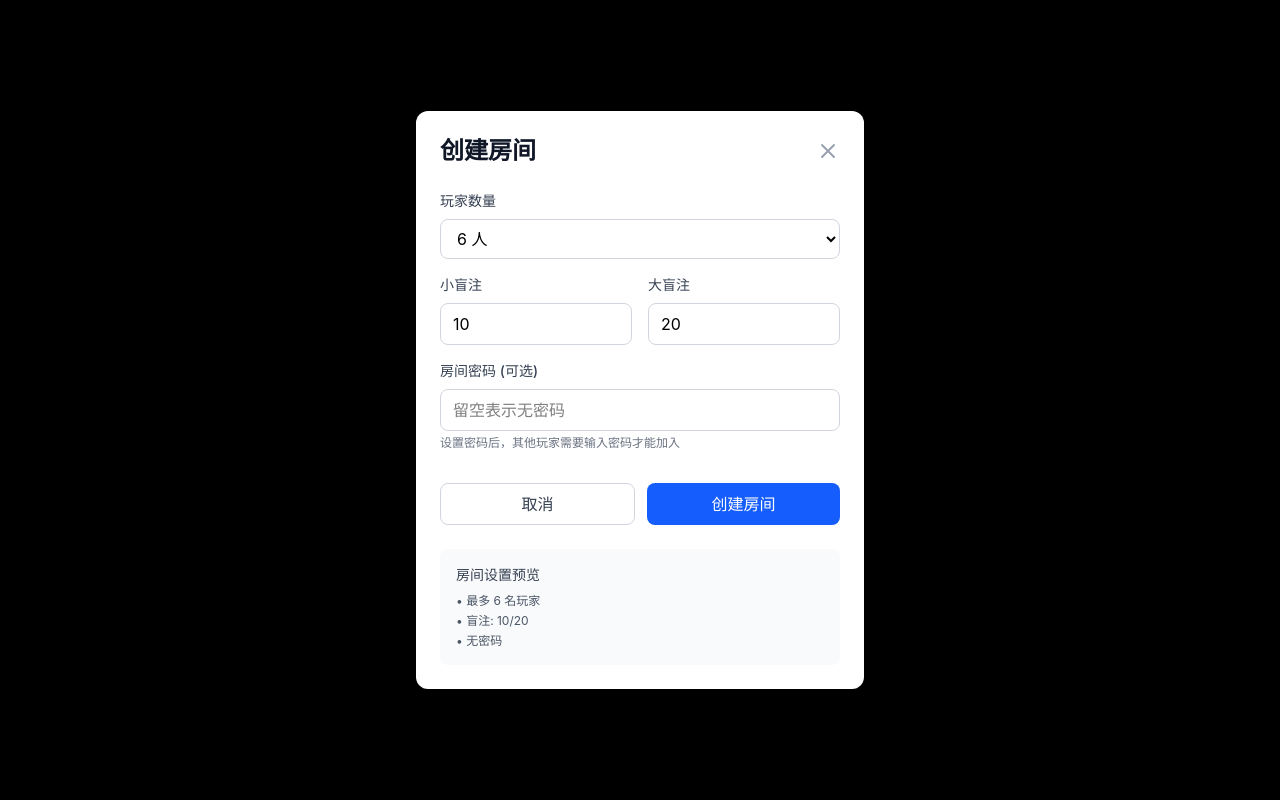
Test case: CreateRoomModal › Form Validation › should clear error messages when form is modified
# Create an error
Step 1. Replace the text in the number field below "小盲注" with "50" → (536, 324), box [440,303,632,345]
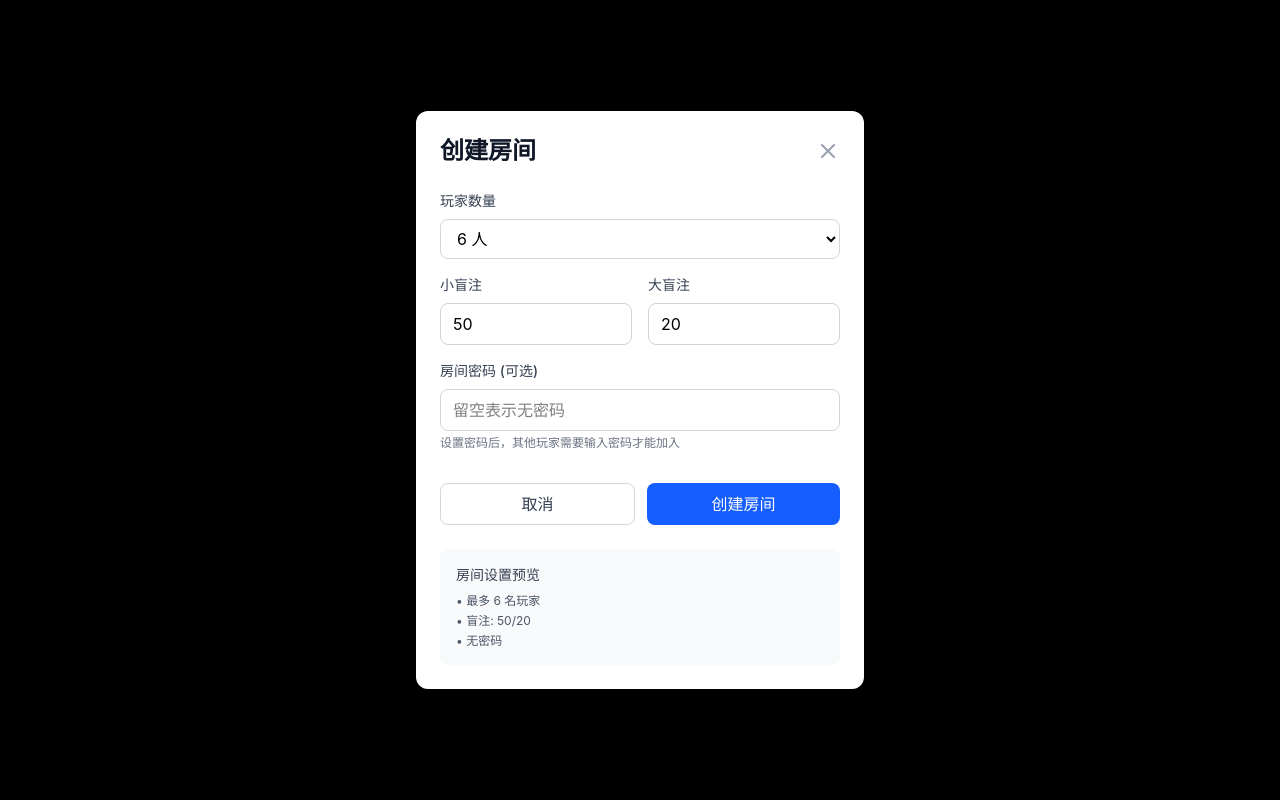
Step 2. Replace the text in the number field below "大盲注" with "25" → (744, 324), box [648,303,840,345]
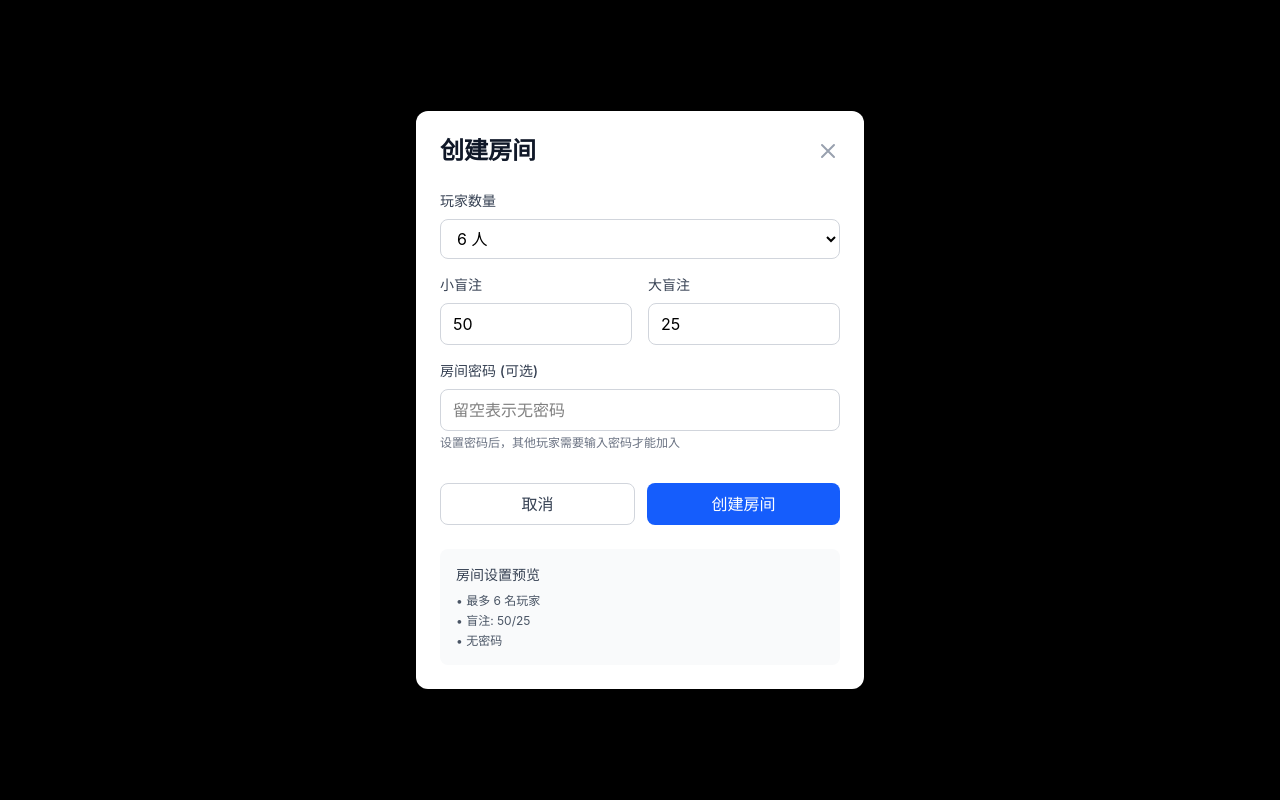
Step 3. Submit the form, box [440,191,840,525]
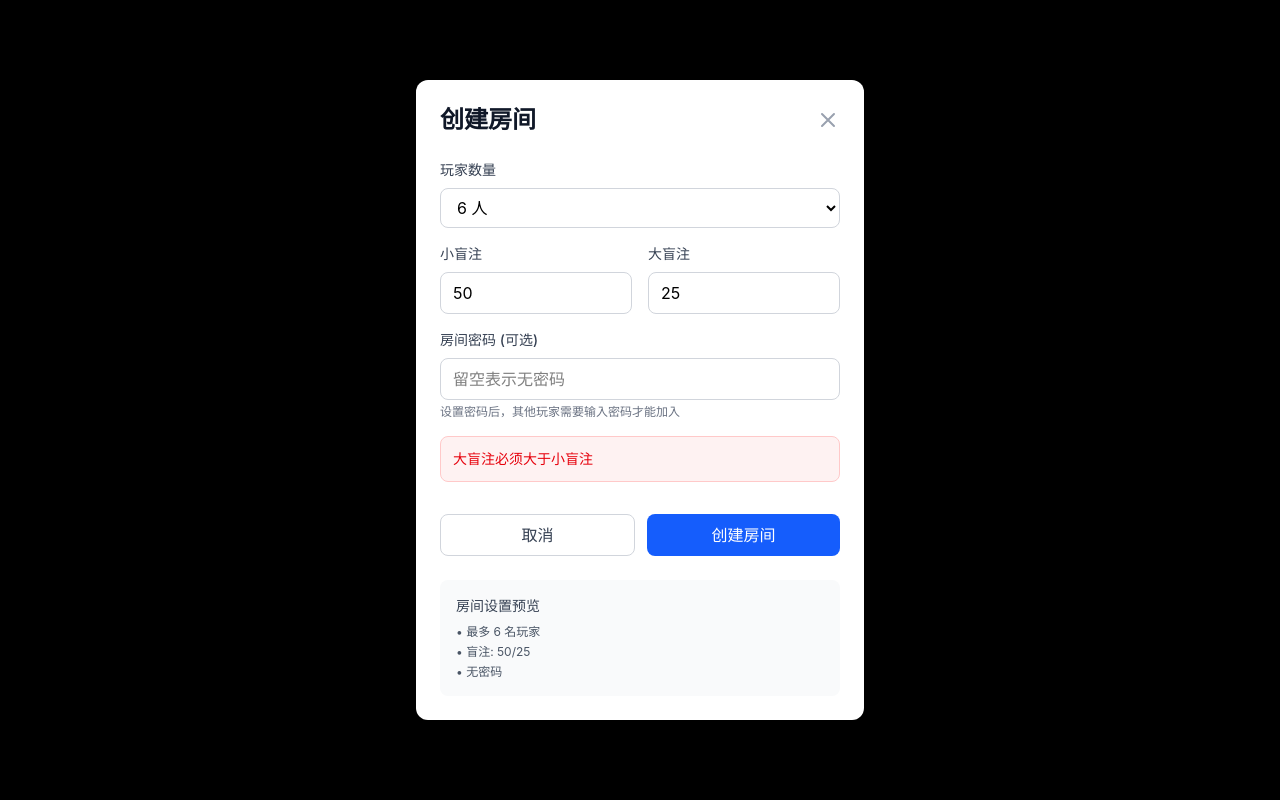
Check: the text "大盲注必须大于小盲注" is shown, box [453,450,593,467]
# Fix the error
Step 4. Replace the text in the 2nd number field with "100" → (744, 293), box [648,272,840,314]
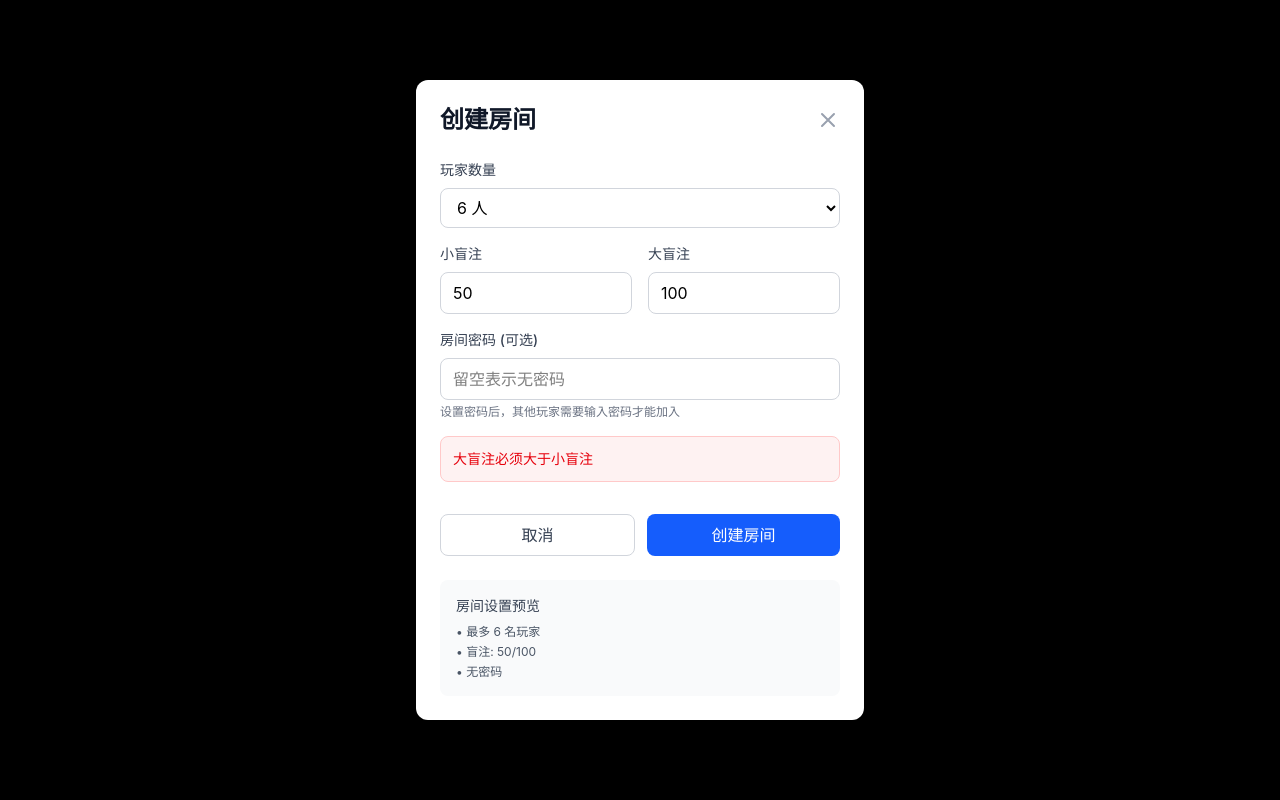
Step 5. Submit the form, box [440,160,840,556]
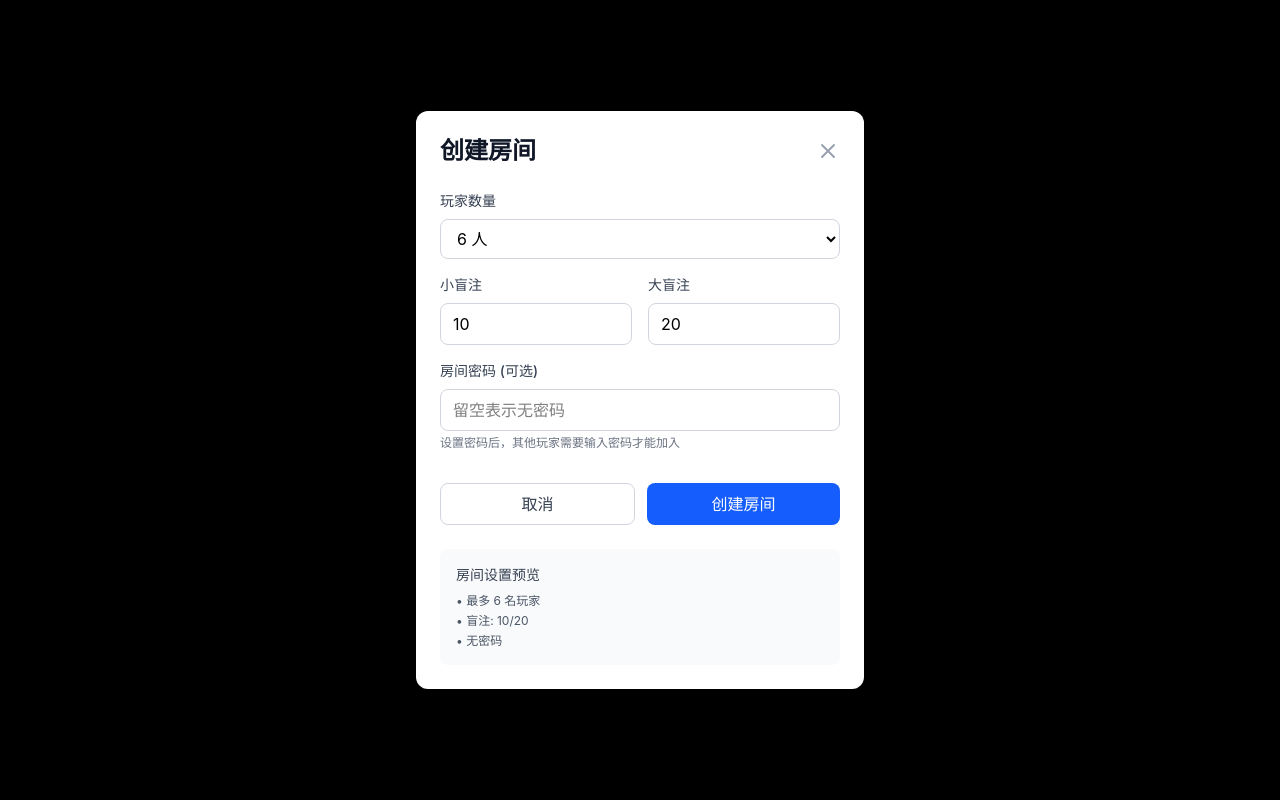
Check: the text "大盲注必须大于小盲注" is gone
